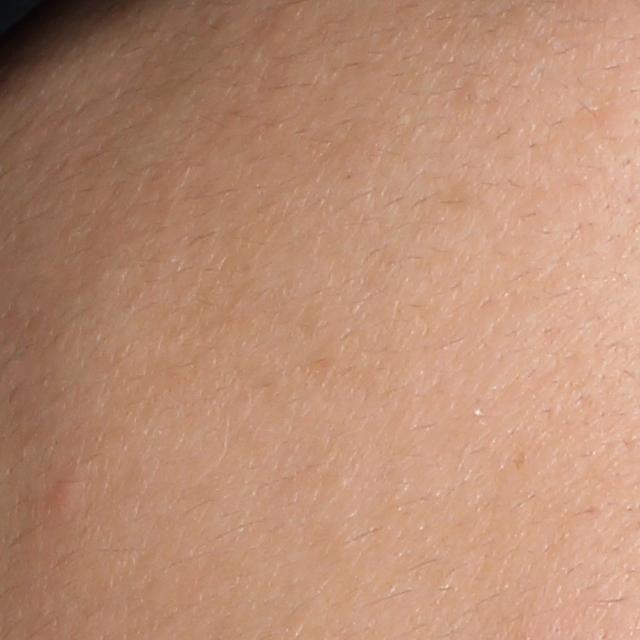papule: (49, 475, 81, 509)
